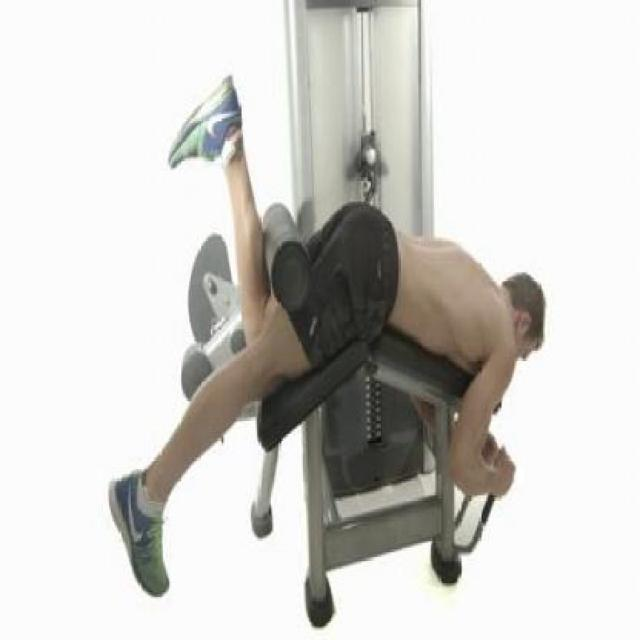reg curl machine: (108, 2, 548, 629)
